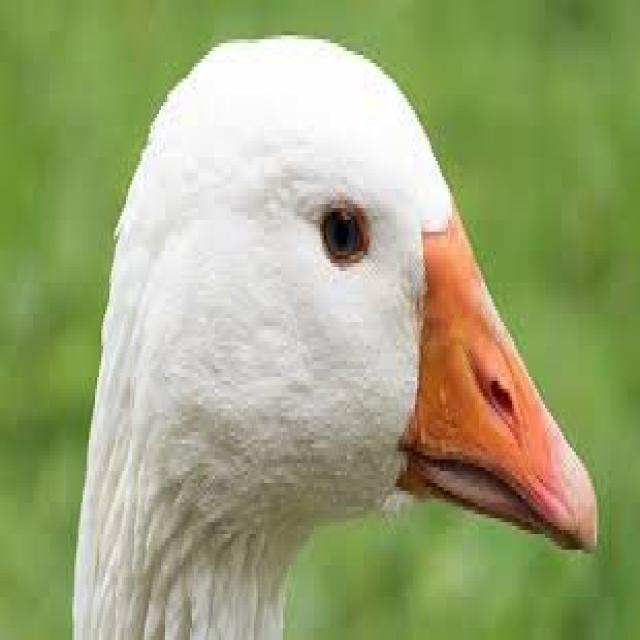Goose: (66, 30, 601, 640)
